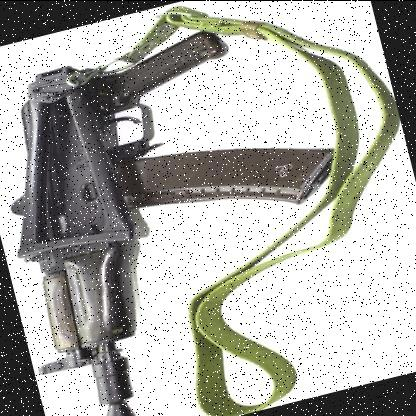rifle: (0, 16, 364, 416)
